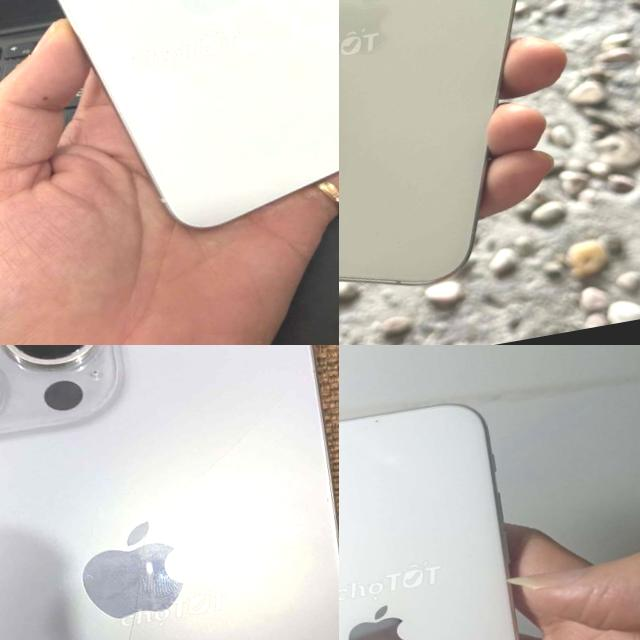physical_damage: (17, 469, 213, 640), (150, 388, 308, 494)
scratch: (366, 413, 384, 426)
